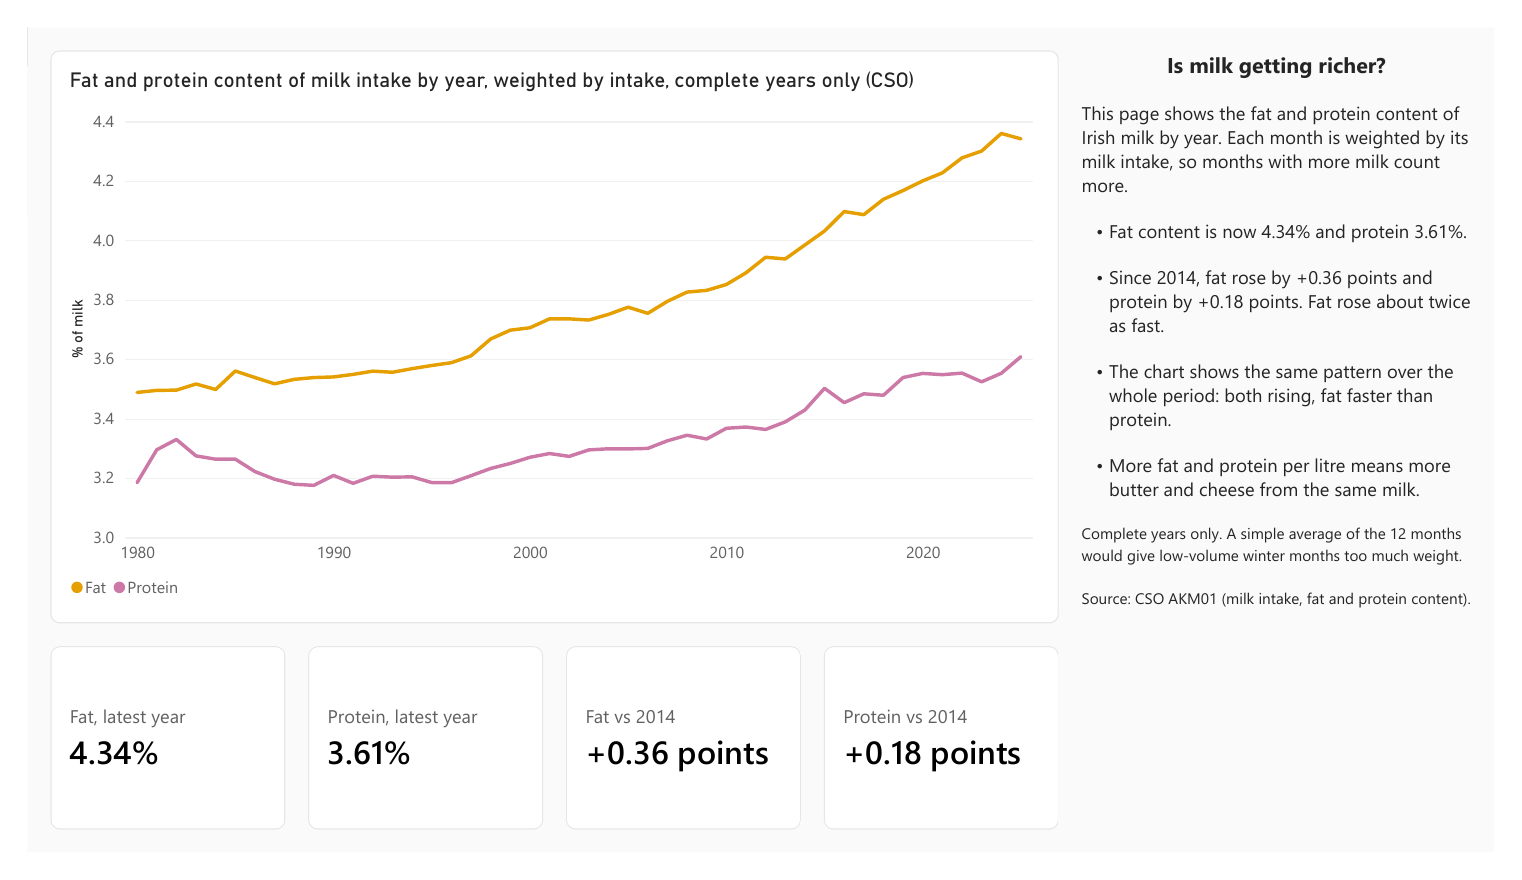

The dashboard page shown, as its layout file describes it:
{"tool":"powerbi","page":{"name":"Milk quality","canvas":[1280,720],"ordinal":3},"visuals":[{"type":"lineChart","title":"Fat and protein content of milk intake by year, weighted by intake, complete years only (CSO)","fields":{"Category":["dim_date.year"],"Y":["fact_monthly.Fat, weighted by intake (%)","fact_monthly.Protein, weighted by intake (%)"]},"box":[20,20,880,500],"z":0},{"type":"cardVisual","fields":{"Data":["fact_monthly.Fat, latest complete year (label)"]},"box":[20,540,205,160],"z":1000},{"type":"cardVisual","fields":{"Data":["fact_monthly.Protein, latest complete year (label)"]},"box":[245,540,205,160],"z":2000},{"type":"cardVisual","fields":{"Data":["fact_monthly.Fat, change since 2014 (label)"]},"box":[470,540,205,160],"z":3000},{"type":"cardVisual","fields":{"Data":["fact_monthly.Protein, change since 2014 (label)"]},"box":[695,540,205,160],"z":4000},{"type":"textbox","box":[920,20,340,680],"z":5000}]}

Visuals, with their boxes in screenshot pixels (x1, y1, x2, y2), scaled from the page's 1280x720 canvas onto the 1522x880 screenshot:
"Fat and protein content of milk intake by year, weighted by intake, complete years only (CSO)" lineChart: <bbox>24, 24, 1070, 636</bbox>
cardVisual - fact_monthly.Fat, latest complete year (label): <bbox>24, 660, 268, 856</bbox>
cardVisual - fact_monthly.Protein, latest complete year (label): <bbox>291, 660, 535, 856</bbox>
cardVisual - fact_monthly.Fat, change since 2014 (label): <bbox>559, 660, 803, 856</bbox>
cardVisual - fact_monthly.Protein, change since 2014 (label): <bbox>826, 660, 1070, 856</bbox>
textbox: <bbox>1094, 24, 1498, 856</bbox>
